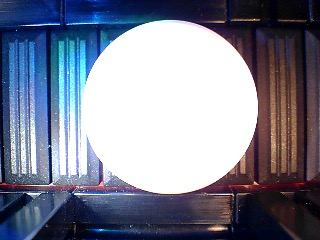BLANK: (81, 19, 259, 195)
